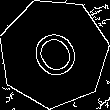O_SE: (22, 20, 86, 87)
